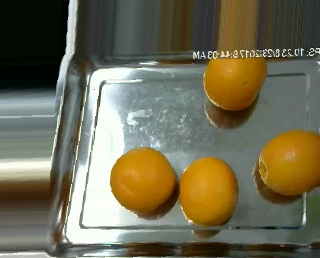Orange: (109, 146, 174, 212), (178, 157, 239, 226), (258, 129, 320, 196)
